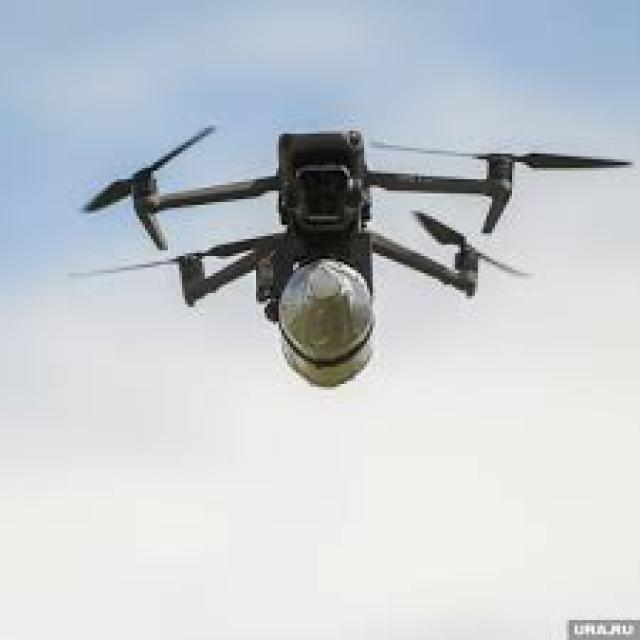drone: (85, 113, 630, 394)
